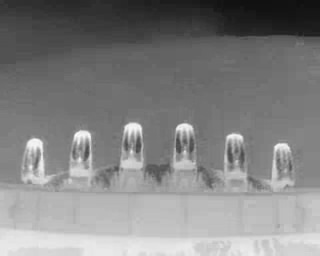claw: (122, 121, 145, 169), (173, 123, 197, 168), (69, 129, 92, 172), (223, 133, 247, 174), (273, 141, 295, 184), (22, 138, 45, 177)
